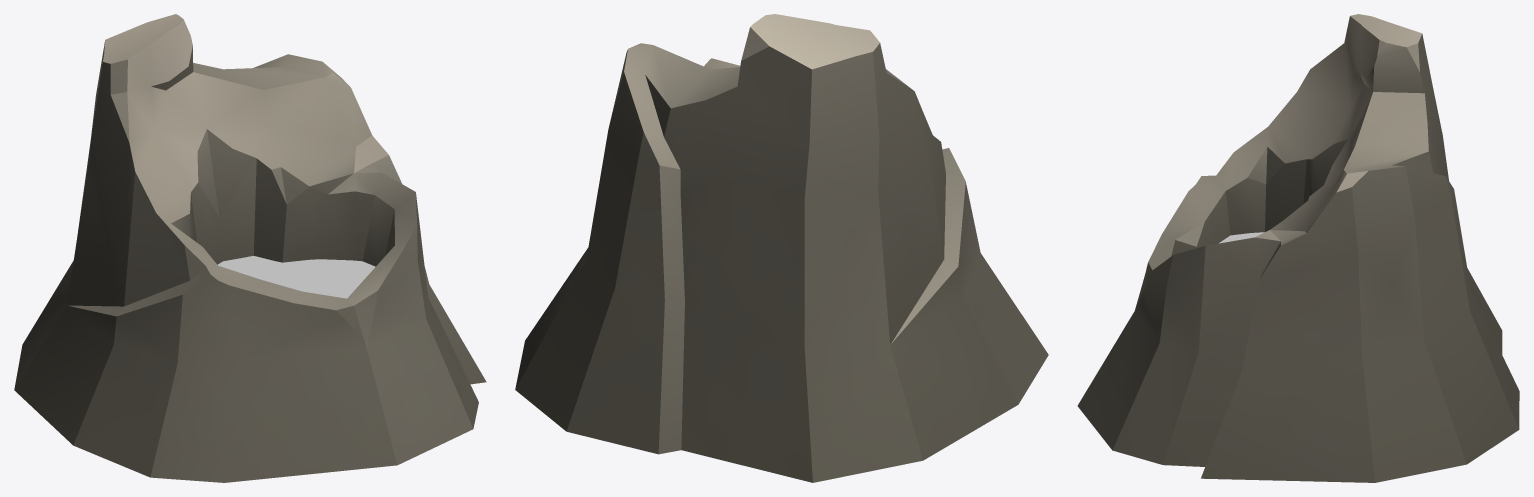
Rendered from Rock_Shrine_2B.fbx.
The picture shows the model from 3 angles, left to right: view 1: azimuth 30°, elevation 25°; view 2: azimuth 150°, elevation 25°; view 3: azimuth 270°, elevation 25°; orthographic projection. The views are drawn at different scales.
Parts seen in each view (by area): view 1: Rock_Shrine_2B; view 2: Rock_Shrine_2B; view 3: Rock_Shrine_2B.
Boxes of the visible parts, x1=… form: Rock_Shrine_2B: x1=14, y1=14, x2=486, y2=482; Rock_Shrine_2B: x1=515, y1=14, x2=1048, y2=482; Rock_Shrine_2B: x1=1077, y1=14, x2=1519, y2=482.
Bounding box in the file's own units: 1.93 × 1.65 × 1.96.
